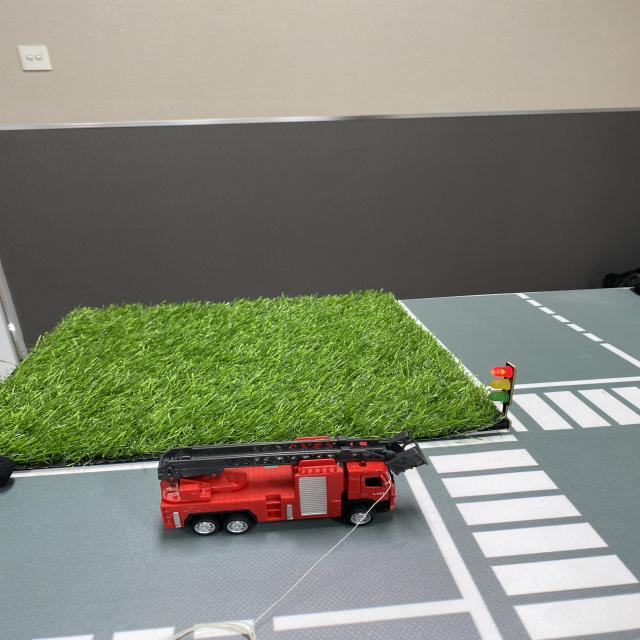Fire Truck: (154, 428, 434, 539)
